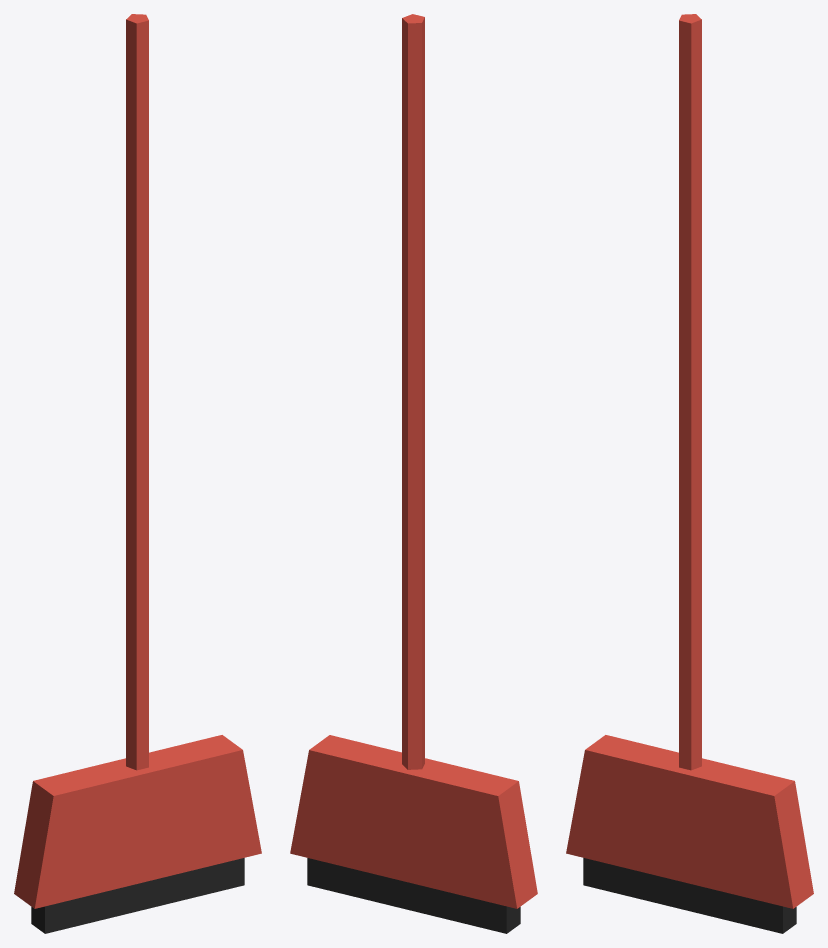
Rendered from broom.fbx.
The picture shows the model from 3 angles, left to right: view 1: azimuth 30°, elevation 25°; view 2: azimuth 150°, elevation 25°; view 3: azimuth 330°, elevation 25°; orthographic projection.
Parts seen in each view (by area): view 1: Cube, Cylinder, Cube.001; view 2: Cube, Cylinder, Cube.001; view 3: Cube, Cylinder, Cube.001.
Boxes of the visible parts, left/top/right/bottom form: Cube: left=14, top=735, right=261, bottom=908; Cylinder: left=126, top=14, right=148, bottom=770; Cube.001: left=31, top=858, right=244, bottom=933; Cube: left=290, top=735, right=537, bottom=908; Cylinder: left=402, top=14, right=424, bottom=769; Cube.001: left=307, top=858, right=520, bottom=933; Cube: left=566, top=735, right=813, bottom=908; Cylinder: left=679, top=14, right=701, bottom=770; Cube.001: left=583, top=858, right=796, bottom=933.
Size of the model in its own units: 101 by 375 by 15.89.
